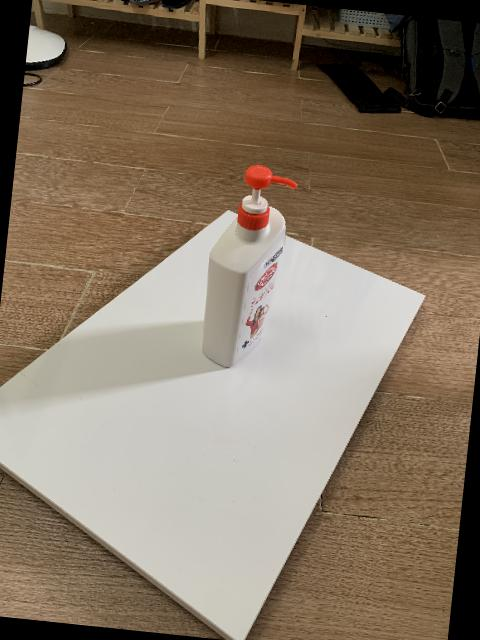life-buoy: (201, 189, 286, 370)
